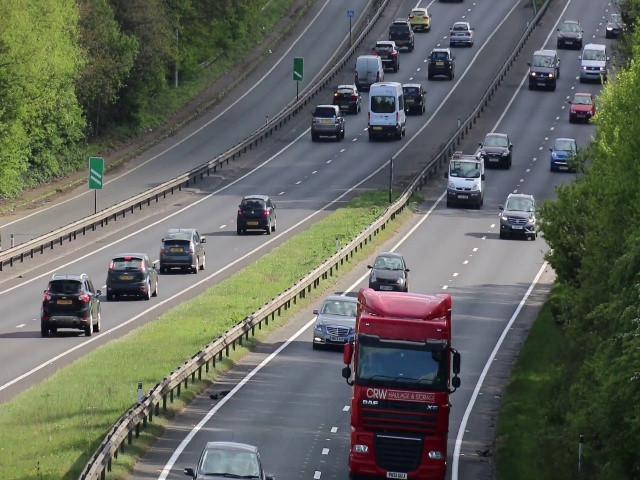car: (359, 328, 443, 480), (41, 275, 102, 340), (106, 252, 157, 305), (192, 442, 259, 480), (364, 83, 406, 141), (497, 190, 540, 244), (316, 291, 353, 349), (162, 227, 206, 273), (446, 156, 484, 209), (237, 195, 277, 236), (525, 48, 559, 90), (307, 104, 344, 142), (369, 252, 405, 291), (577, 40, 607, 82), (481, 129, 512, 167), (385, 16, 418, 51), (371, 39, 403, 71), (353, 54, 386, 85), (566, 90, 596, 124), (557, 14, 583, 49), (427, 48, 453, 82), (549, 138, 575, 171), (404, 82, 423, 117), (407, 8, 432, 34), (448, 19, 473, 44), (336, 85, 357, 111)
